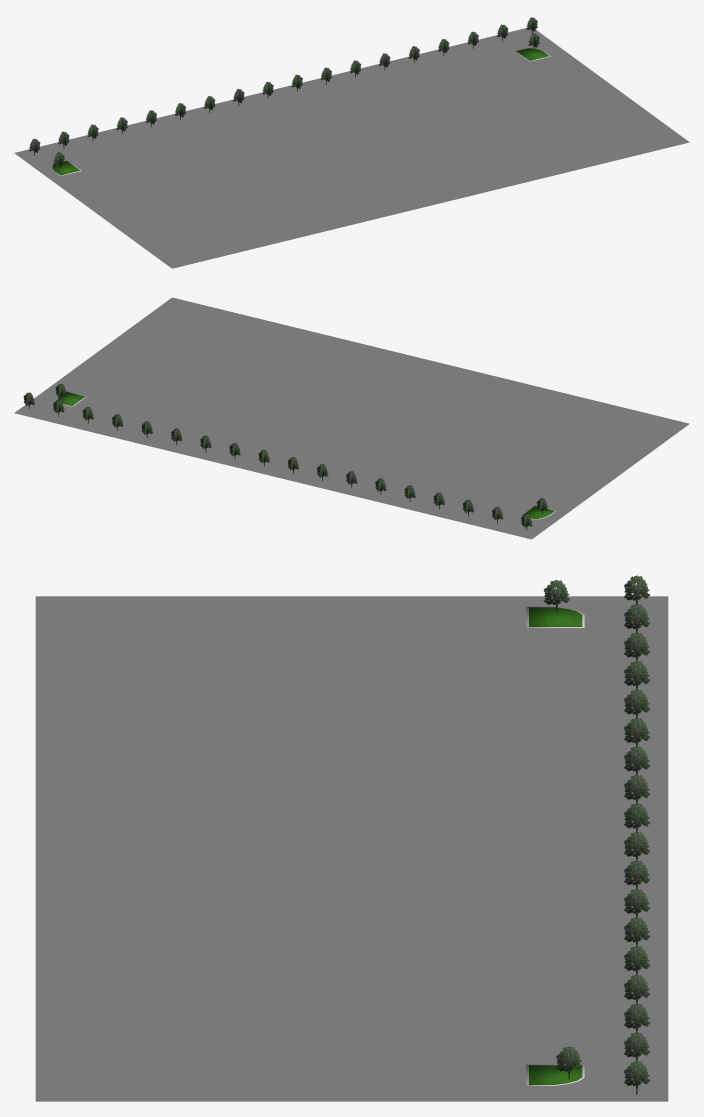
File: 0f_mini.gltf
3 renders of one model, top to bottom at view 1: azimuth 30°, elevation 25°; view 2: azimuth 150°, elevation 25°; view 3: azimuth 270°, elevation 25°, orthographic. The views are drawn at different scales.
Visible parts, largest first — view 1: dimian_1; view 2: dimian_1; view 3: dimian_1, dimian_44, dimian_41.
Boxes of the visible parts, <box> form: dimian_1: <box>14,28,689,268</box>; dimian_1: <box>14,297,689,539</box>; dimian_1: <box>35,596,668,1101</box>; dimian_44: <box>529,607,582,626</box>; dimian_41: <box>529,1065,582,1084</box>.
Bounding box in the file's own units: 386 × 13.02 × 204.
4 materials, 2 textured.
